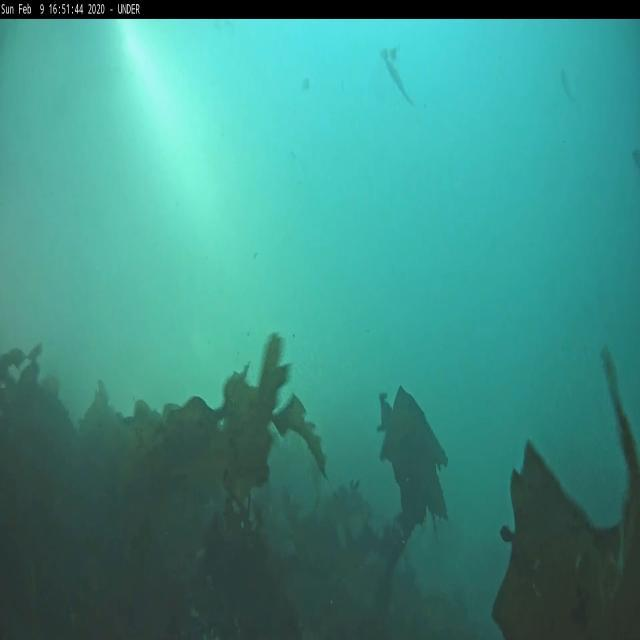fish: (384, 58, 416, 105), (556, 66, 574, 105)
